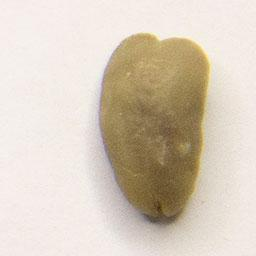longberry: (97, 30, 213, 226)
